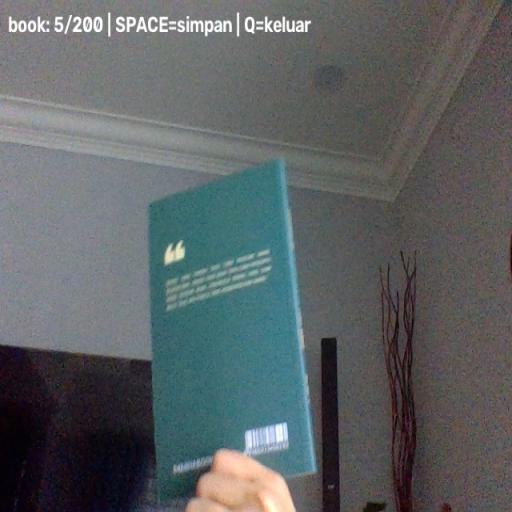Book: (148, 158, 317, 504)
